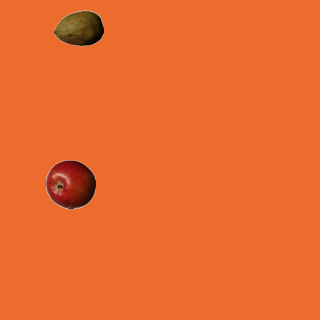Apple Braeburn: (45, 159, 95, 209)
Papaya: (53, 3, 103, 53)
